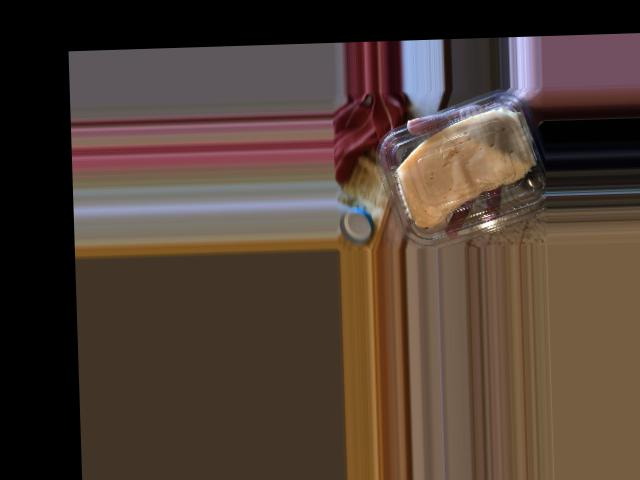cheese: (372, 98, 549, 243)
